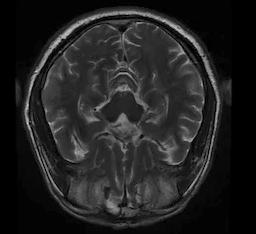Normal_Brain: (1, 1, 256, 234)
